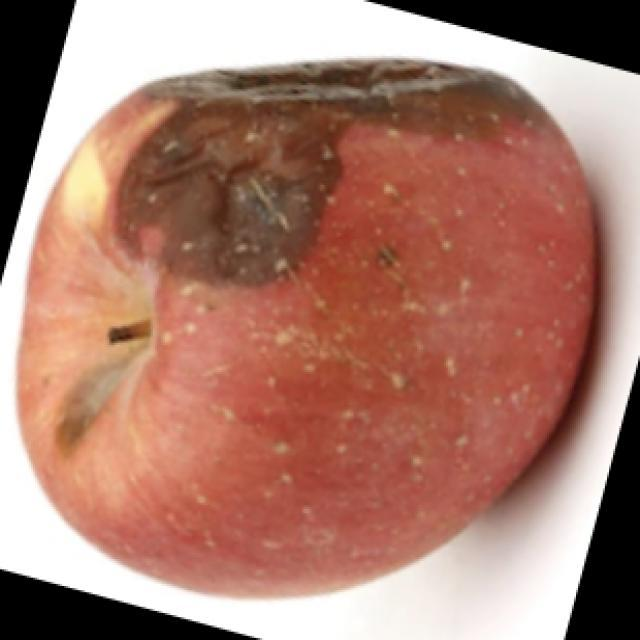Rotten: (43, 67, 610, 605)
